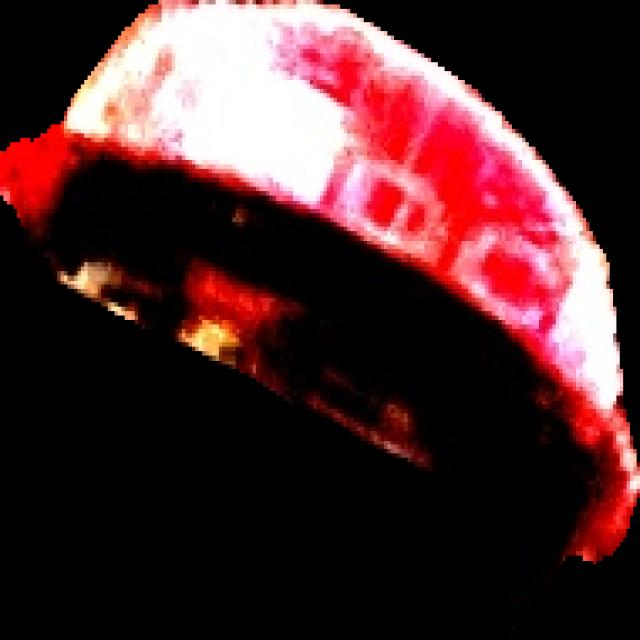Capacete: (0, 0, 639, 613)
